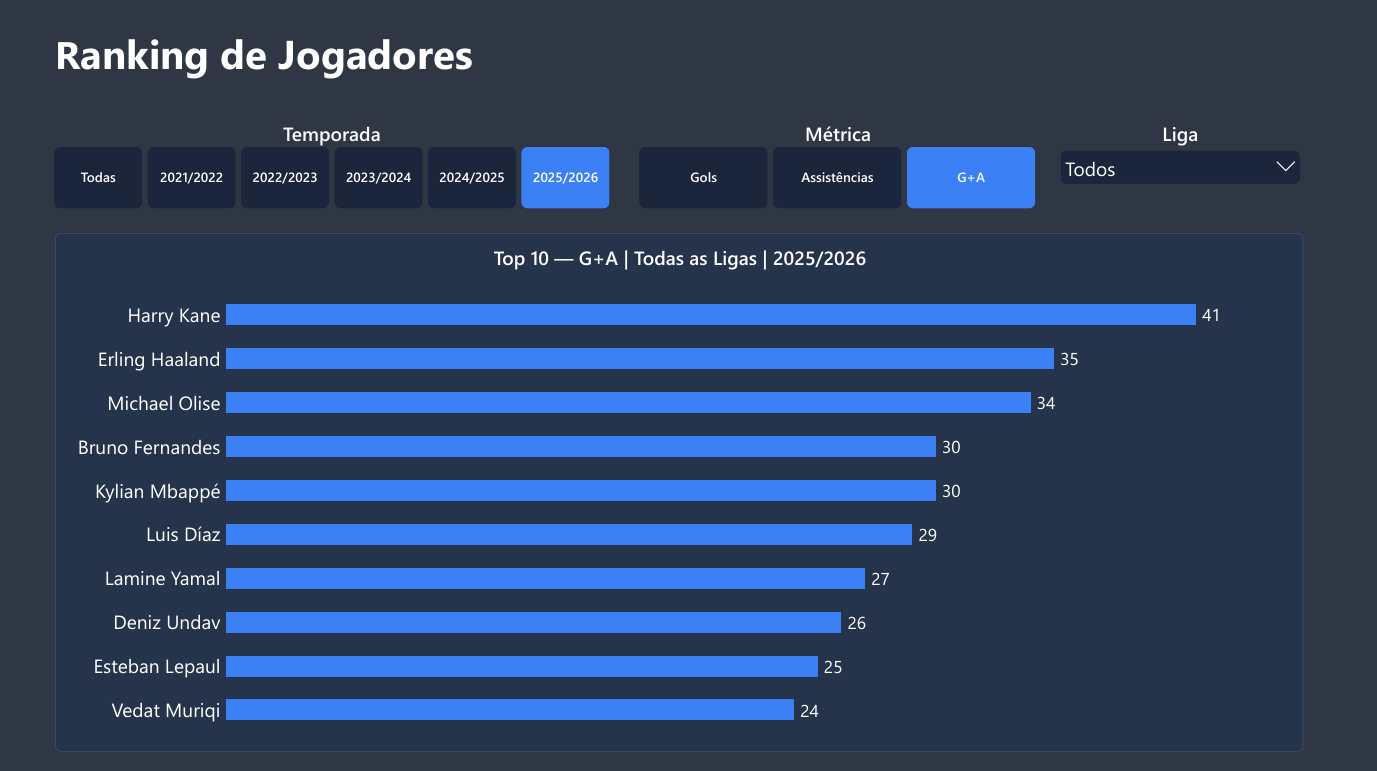

The page's visual inventory and layout, read from the dashboard file:
{"tool":"powerbi","page":{"name":"Página 2","canvas":[1920,1080],"ordinal":1},"visuals":[{"type":"textbox","box":[78.8,38,830.2,105],"z":0},{"type":"advancedSlicerVisual","title":"  Temporada","fields":{"Values":["vw_pagina2_ranking.temporada"]},"box":[78.4,168.9,771.6,128.4],"z":1000},{"type":"advancedSlicerVisual","title":"Métrica","fields":{"Values":["Métricas.Métrica"]},"box":[891.9,168.9,551.9,128.5],"z":2000},{"type":"barChart","fields":{"Category":["vw_pagina2_ranking.JOGADOR"],"Y":["Métricas.Valor Métrica Selecionada"]},"box":[78.8,327.1,1736,721.3],"z":3000},{"type":"slicer","title":"Liga","fields":{"Values":["vw_pagina2_ranking.LIGA"]},"box":[1473,168.9,341.9,100],"z":4000}]}

Visuals, with their boxes in screenshot pixels (x1, y1, x2, y2), scaled from the page's 1920x1080 canvas onto the 1377x771 screenshot:
textbox: 57 27 652 102
"  Temporada" advancedSlicerVisual: 56 121 610 212
"Métrica" advancedSlicerVisual: 640 121 1035 212
barChart - vw_pagina2_ranking.JOGADOR x Métricas.Valor Métrica Selecionada: 57 234 1302 748
"Liga" slicer: 1056 121 1302 192
